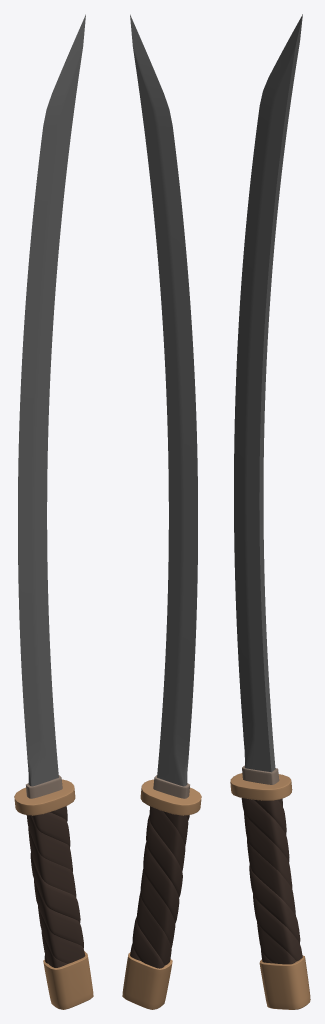
The model's file is Katana_01.fbx.
3 renders of one model, left to right at view 1: azimuth 30°, elevation 25°; view 2: azimuth 150°, elevation 25°; view 3: azimuth 330°, elevation 25°, orthographic.
Parts seen in each view (by area): view 1: MOD_Sabre5; view 2: MOD_Sabre5; view 3: MOD_Sabre5.
Boxes of the visible parts, left/top/right/bottom form: MOD_Sabre5: left=14, top=14, right=93, bottom=1009; MOD_Sabre5: left=122, top=14, right=201, bottom=1009; MOD_Sabre5: left=230, top=14, right=310, bottom=1009.
Size of the model in its own units: 8.88 by 114 by 4.51.
